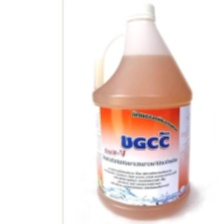cleaning_solution: (89, 0, 195, 223)
